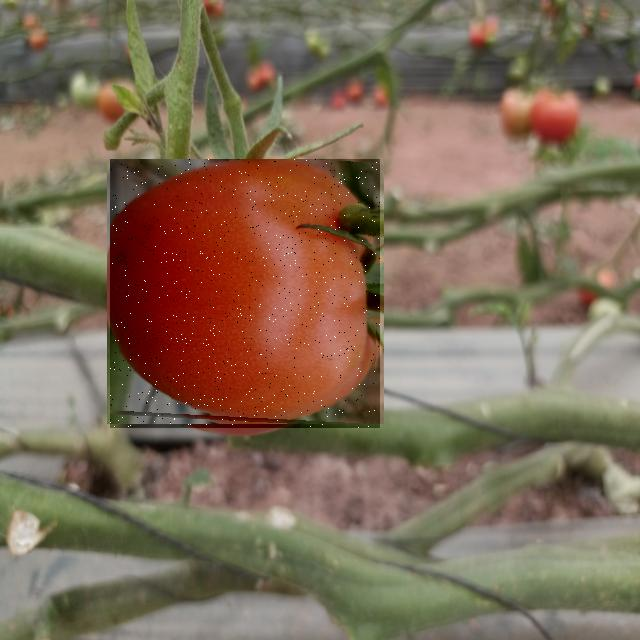Ripe Tomato: (110, 159, 380, 428)
